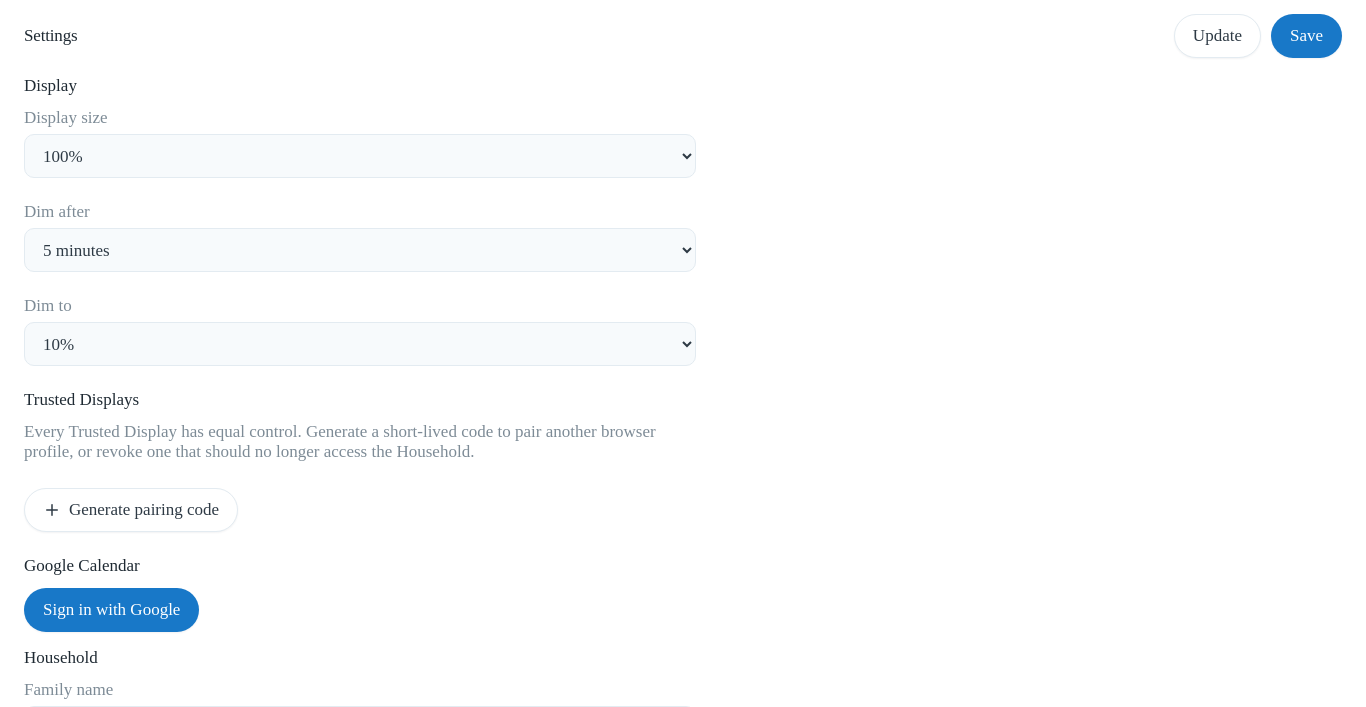
Test case: Settings server update › Update starts a Household server update
Click the button "Update".
click(1217, 36)  # box [1174,14,1261,58]
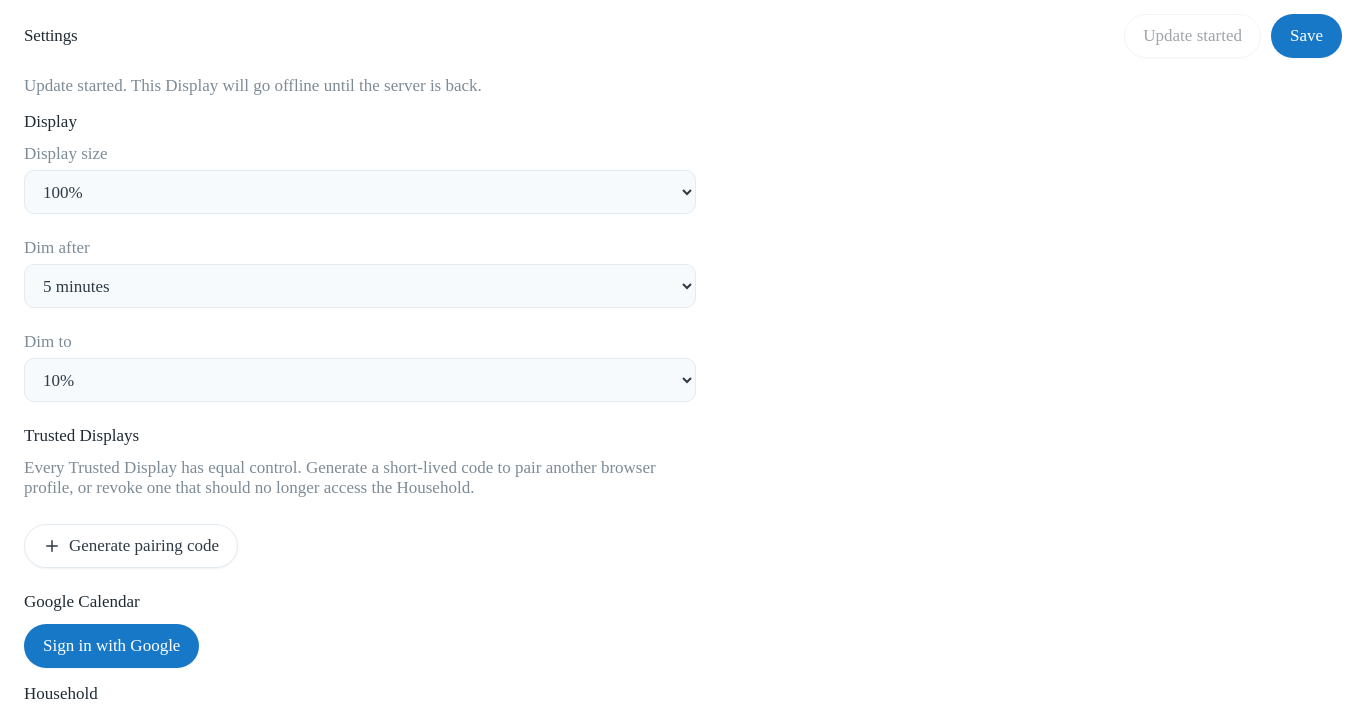
Expected: the text "Update started. This Display will go offline until the server is back." is shown, [24,76,482,95]
